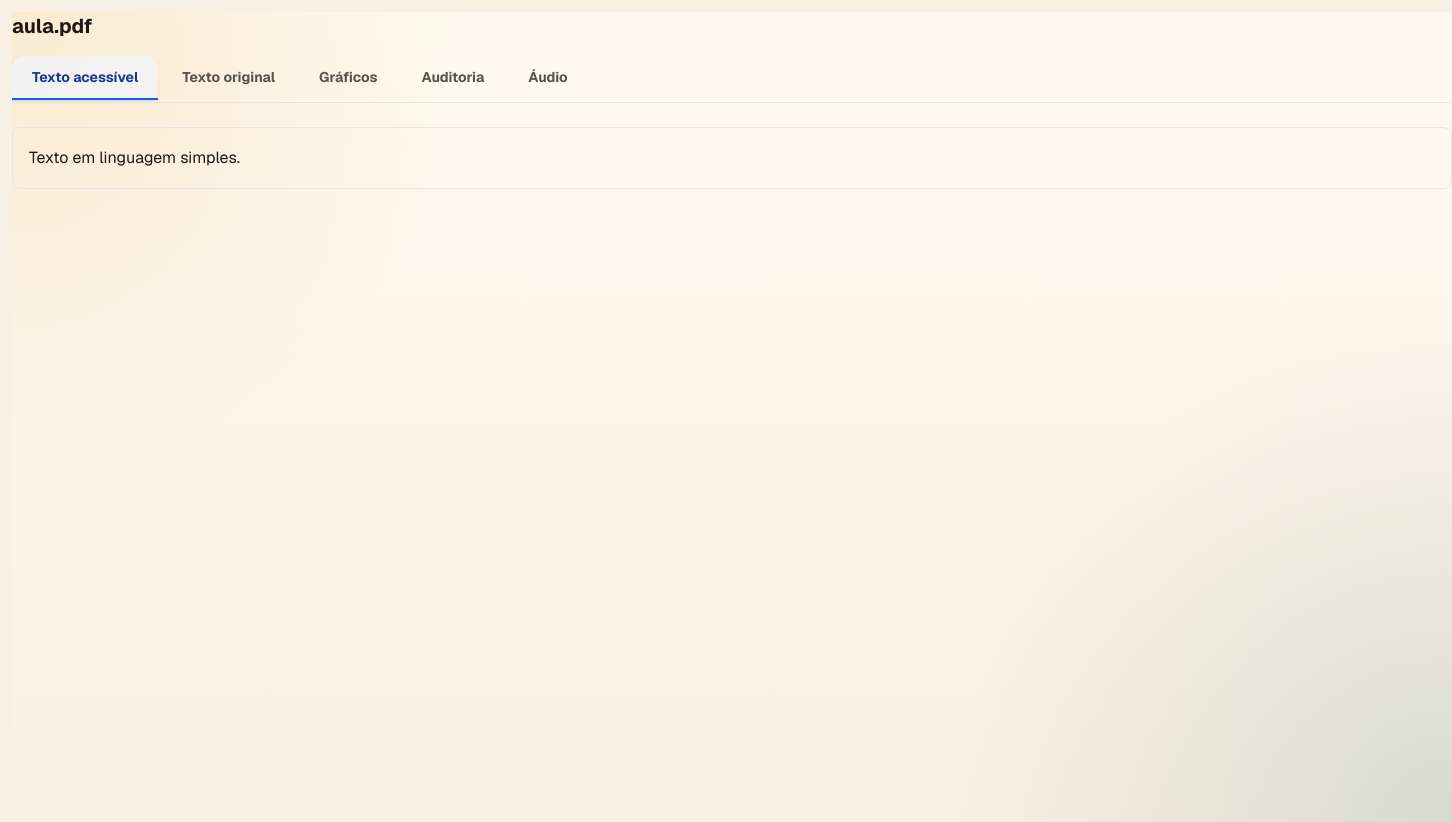
Test case: MaterialResult › downloads the audio only when the audio tab opens and plays it
Click the tab "Áudio": (548, 78) [508,56,588,100]
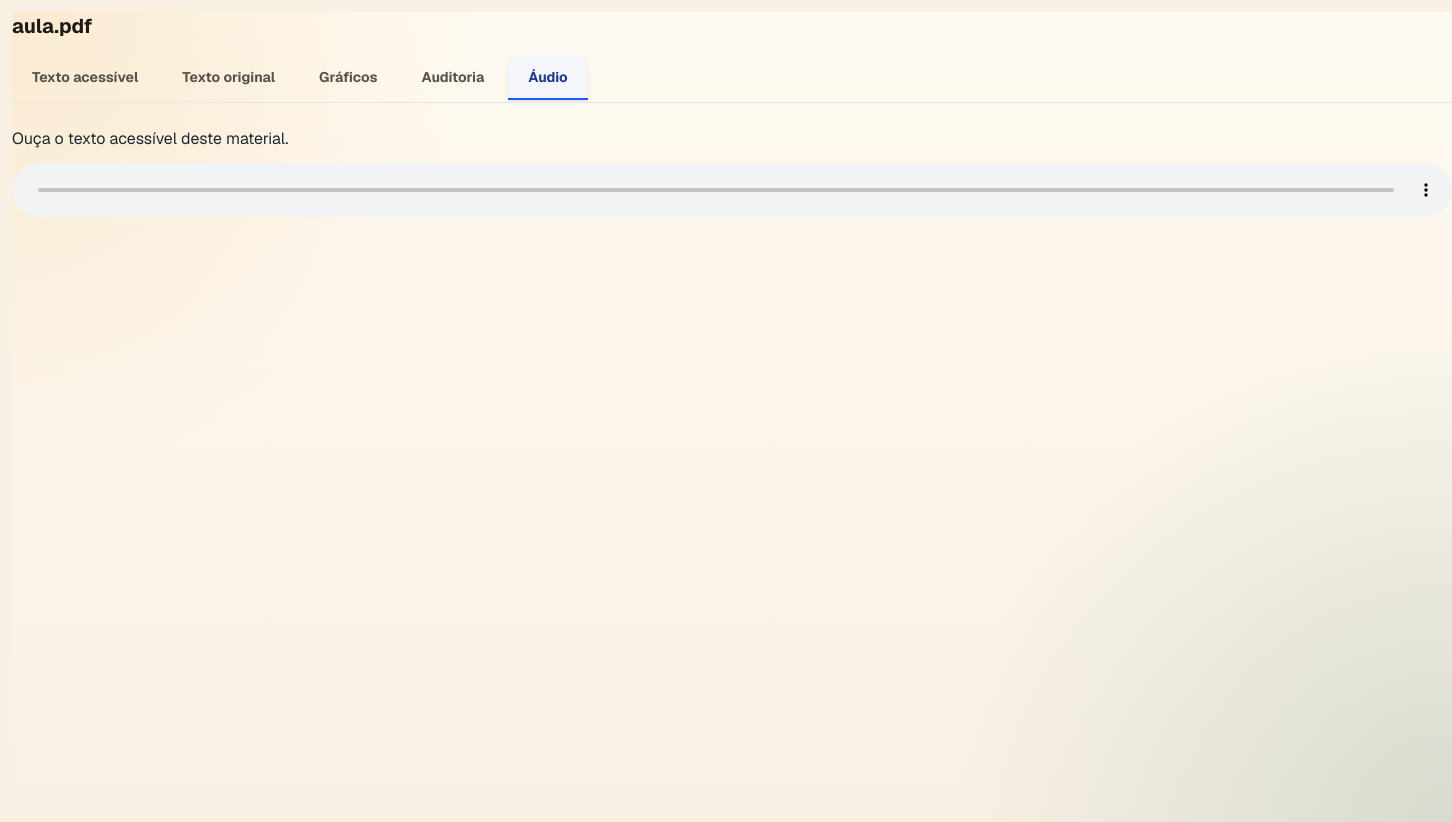
Expected: the text "Ouça o texto acessível deste material." is shown, [12,128,289,149]
